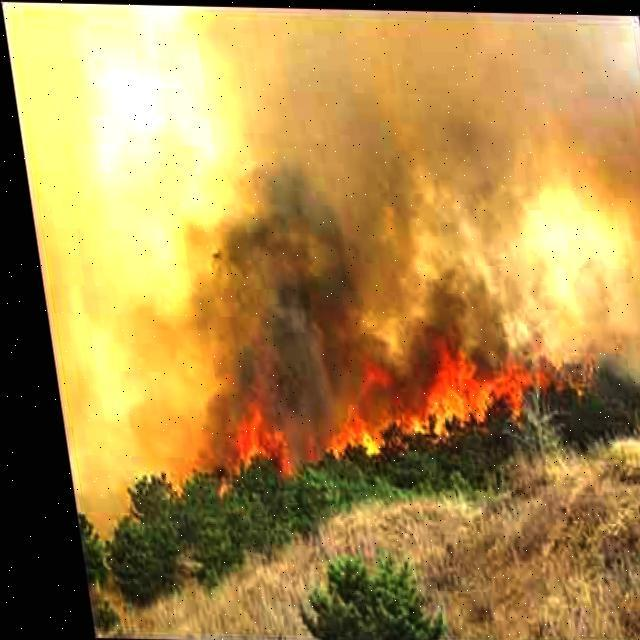Fire: (304, 334, 586, 454), (212, 407, 282, 482)
